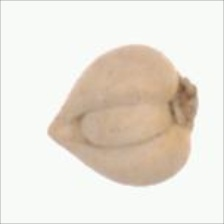L5: (77, 99, 174, 149), (169, 71, 200, 134), (46, 96, 73, 158)
L6: (44, 41, 202, 190)
